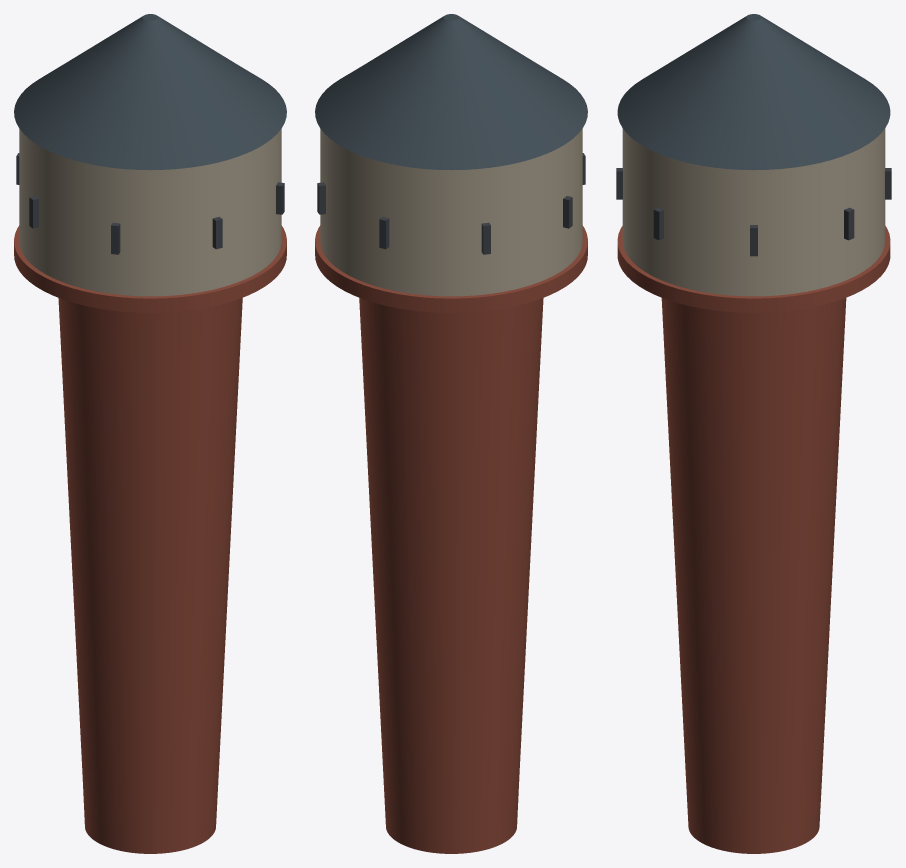
Rendered from g11-water-tower-masonry.glb.
3 views of the same model, side by side, from view 1: azimuth 30°, elevation 25°; view 2: azimuth 150°, elevation 25°; view 3: azimuth 270°, elevation 25° (orthographic).
Visible parts, largest first — view 1: part0, part1, part3, part2; view 2: part0, part1, part3, part2; view 3: part0, part1, part3, part2.
Part boxes in pixels (left/top/right/bottom): part0: left=58, top=298, right=242, bottom=853; part1: left=19, top=129, right=281, bottom=296; part3: left=14, top=14, right=286, bottom=170; part2: left=14, top=225, right=286, bottom=312; part0: left=359, top=298, right=543, bottom=853; part1: left=320, top=129, right=582, bottom=296; part3: left=315, top=14, right=587, bottom=170; part2: left=315, top=225, right=587, bottom=312; part0: left=661, top=298, right=846, bottom=853; part1: left=622, top=128, right=885, bottom=296; part3: left=617, top=14, right=890, bottom=170; part2: left=617, top=226, right=890, bottom=312.
Bounding box in the file's own units: 10500 × 34000 × 10500.
